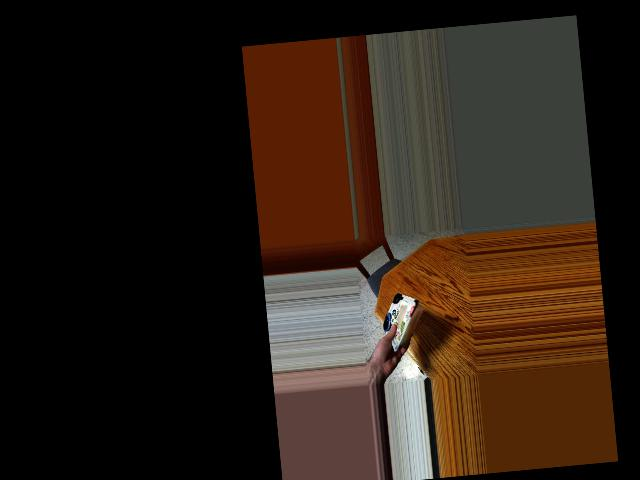cheese: (373, 293, 431, 343)
